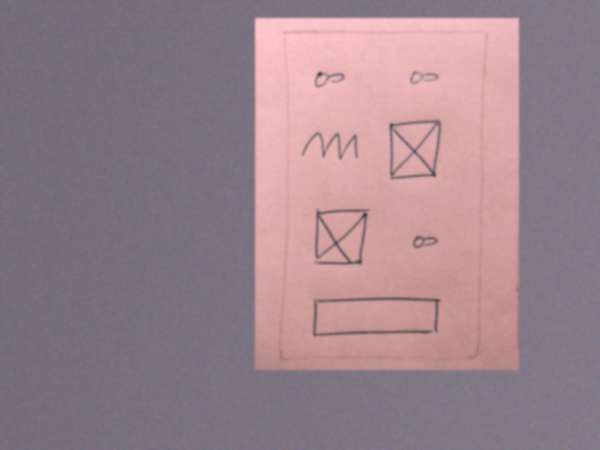image: (307, 200, 380, 271), (382, 116, 447, 185)
switch: (402, 228, 447, 260), (307, 64, 349, 97), (404, 62, 444, 93)
text: (299, 127, 359, 164)
text_input: (303, 291, 447, 344)
